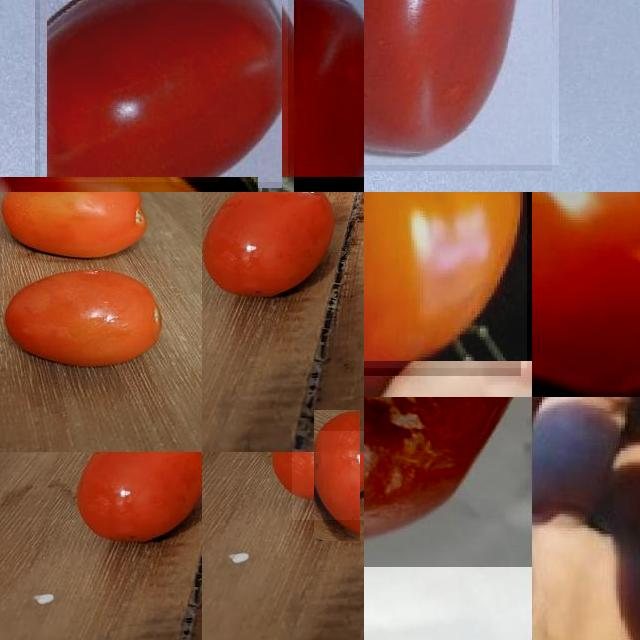0: (364, 192, 527, 368), (532, 192, 640, 397)
1: (364, 397, 532, 567)
Fresh Tomato: (40, 0, 288, 182), (364, 0, 559, 165), (294, 0, 364, 177), (292, 431, 364, 520)
